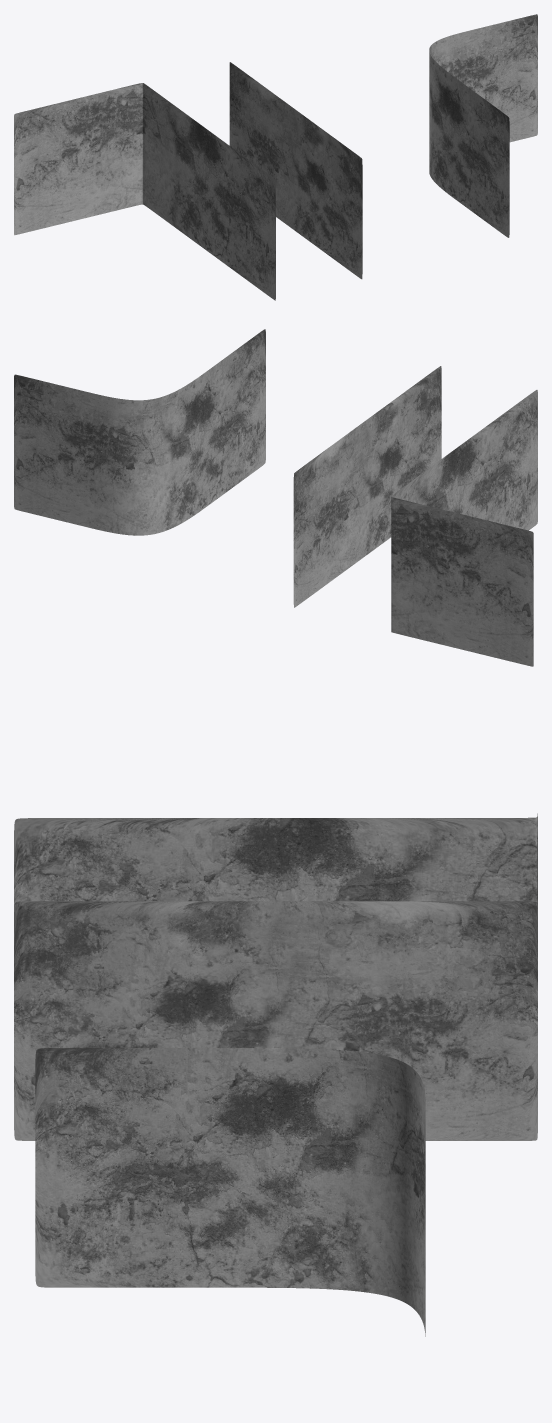
File: стена.fbx
3 renders of one model, top to bottom at view 1: azimuth 30°, elevation 25°; view 2: azimuth 150°, elevation 25°; view 3: azimuth 270°, elevation 25°, orthographic. The views are drawn at different scales.
Visible parts, largest first — view 1: Plane.002, Plane.003, Plane; view 2: Plane.003, Plane.002, Plane; view 3: Plane.003, Plane, Plane.002.
Part boxes in pixels (left/top/right/bottom): Plane.002: left=14, top=83, right=275, bottom=300; Plane.003: left=429, top=14, right=537, bottom=237; Plane: left=229, top=62, right=362, bottom=279; Plane.003: left=14, top=329, right=265, bottom=535; Plane.002: left=391, top=390, right=537, bottom=666; Plane: left=293, top=366, right=441, bottom=607; Plane.003: left=35, top=1048, right=425, bottom=1336; Plane: left=14, top=901, right=537, bottom=1140; Plane.002: left=14, top=813, right=537, bottom=911.
Size of the model in its own units: 1009 by 237 by 469.
